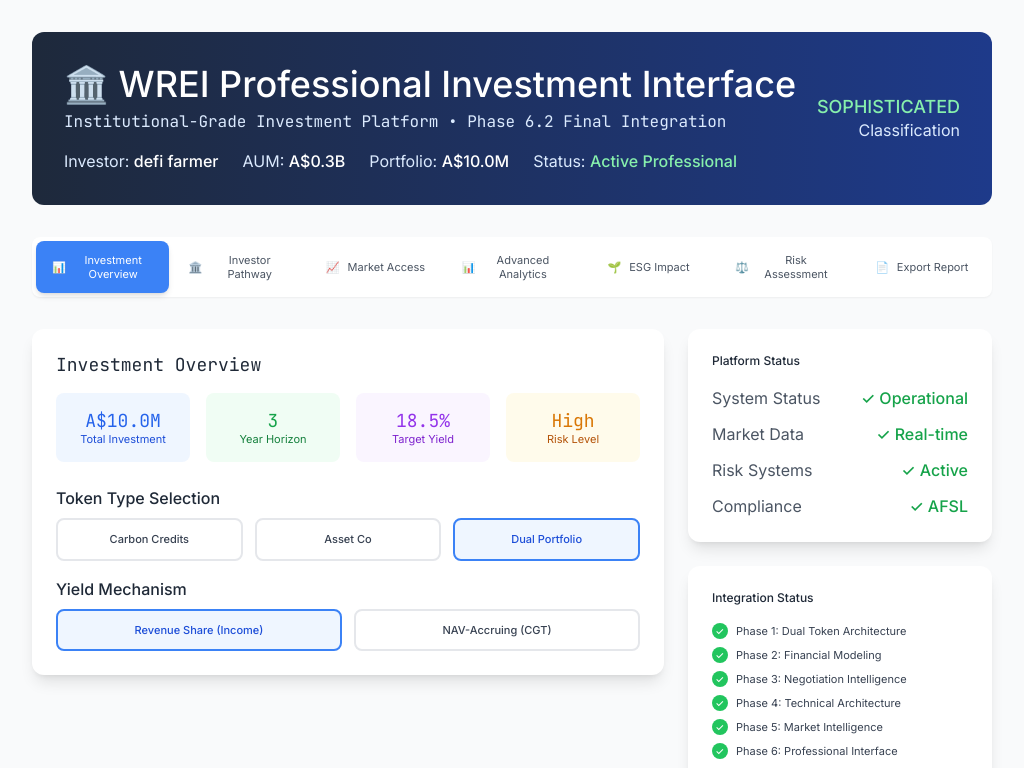
Phase 6.2: API Route Integration › integrates with risk assessment API
The image size is (1024, 768).
Note: Navigate to risk assessment
Click the text "Risk Assessment" at (796, 267), box [764, 253, 828, 281]
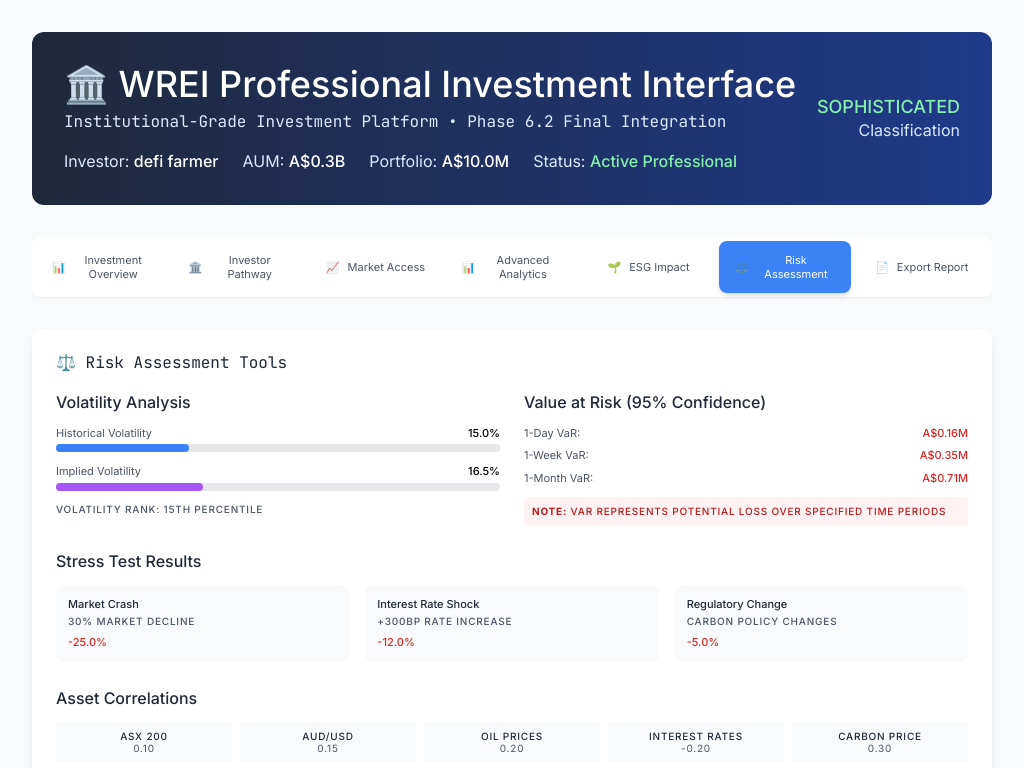
Check: the heading "Volatility Analysis" is shown, box [56, 392, 191, 412]
Check: the heading "Value at Risk (95% Confidence)" is shown, box [524, 392, 766, 412]
Check: the heading "Stress Test Results" is shown, box [56, 551, 202, 571]
